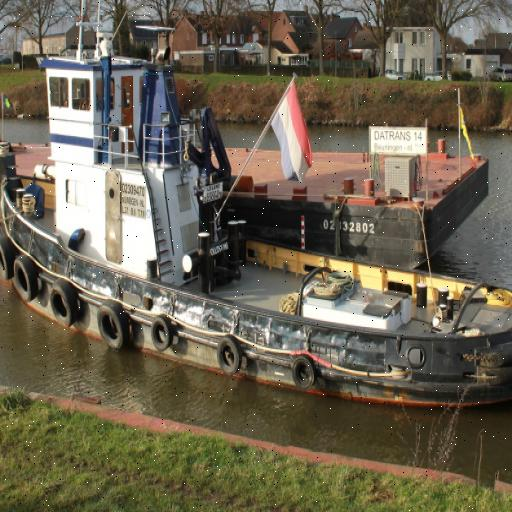tugboat: (1, 16, 512, 425)
